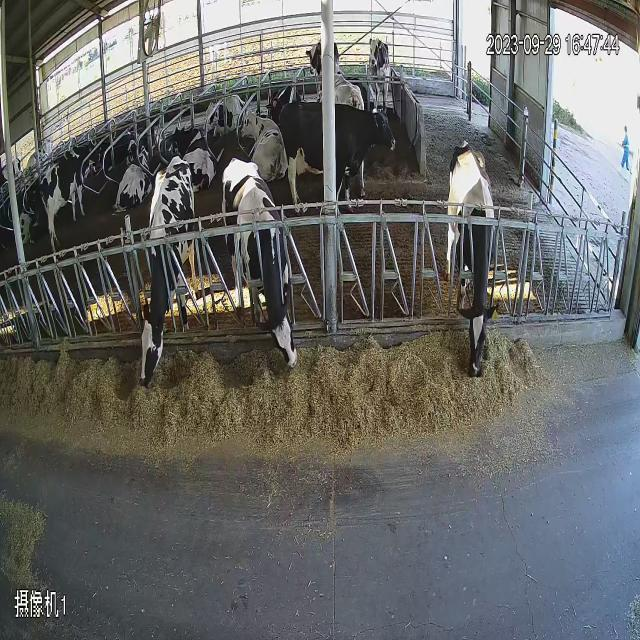feeding: (218, 152, 303, 376), (136, 149, 194, 393), (443, 142, 501, 385)
lying down: (237, 103, 288, 180), (110, 136, 154, 225), (201, 86, 251, 146)
standing: (276, 96, 400, 213), (44, 136, 104, 258), (368, 28, 392, 117)
